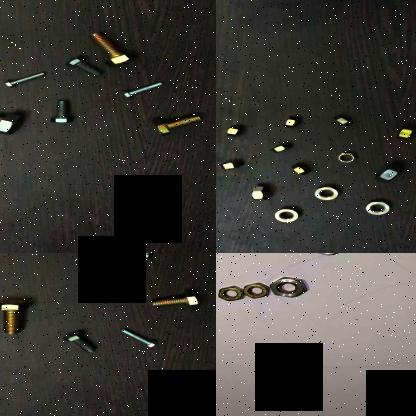Bolts: (89, 31, 139, 66), (148, 112, 204, 136), (148, 288, 208, 310), (0, 297, 33, 335), (62, 56, 106, 83), (56, 330, 102, 354), (118, 325, 160, 351), (46, 93, 76, 126), (0, 70, 48, 90), (121, 80, 164, 100), (0, 109, 27, 139), (137, 253, 163, 262)
NUTS: (266, 274, 308, 302), (369, 161, 410, 184), (216, 282, 248, 304), (221, 121, 249, 143), (241, 280, 268, 302), (361, 196, 390, 216), (272, 204, 298, 226), (216, 157, 246, 175), (312, 183, 340, 202), (244, 184, 270, 202), (393, 122, 416, 142), (269, 140, 296, 156), (285, 163, 313, 177), (329, 114, 357, 128), (333, 151, 361, 165), (278, 115, 302, 130), (303, 253, 349, 259)
